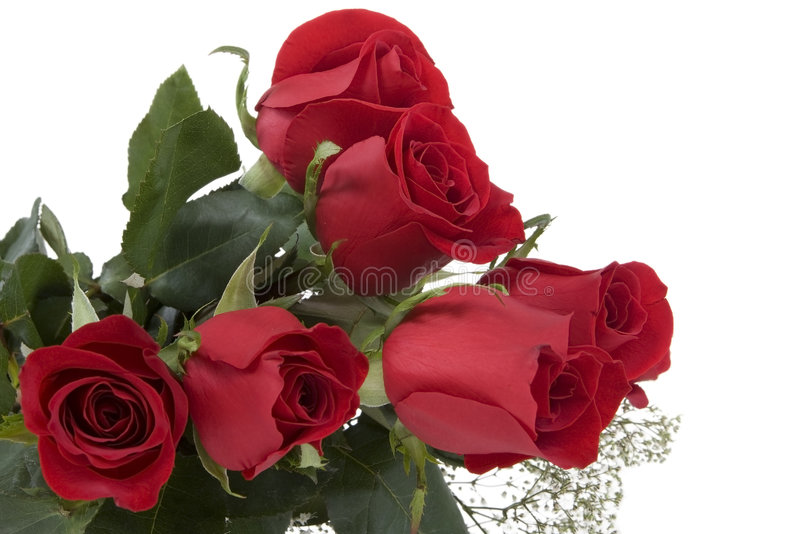RedRose: (370, 230, 670, 466), (293, 114, 552, 266), (247, 2, 476, 173), (176, 287, 375, 483), (12, 323, 189, 498)
